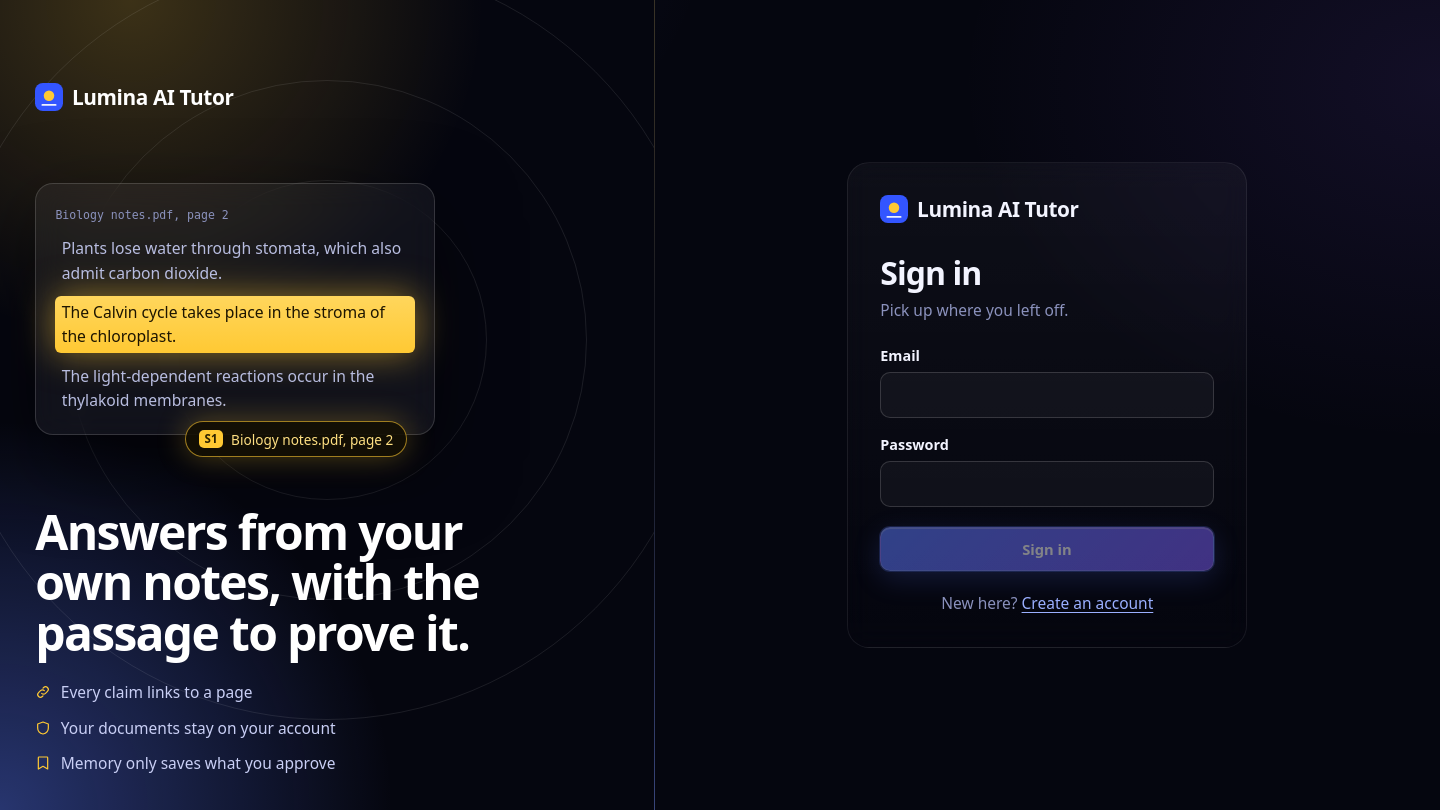
Scenario: login › shows a safe server error and keeps the user on the form
Type "a@b.co" into the field labelled "Email" at (1047, 395), box top-left (880, 372), bottom-right (1214, 418)
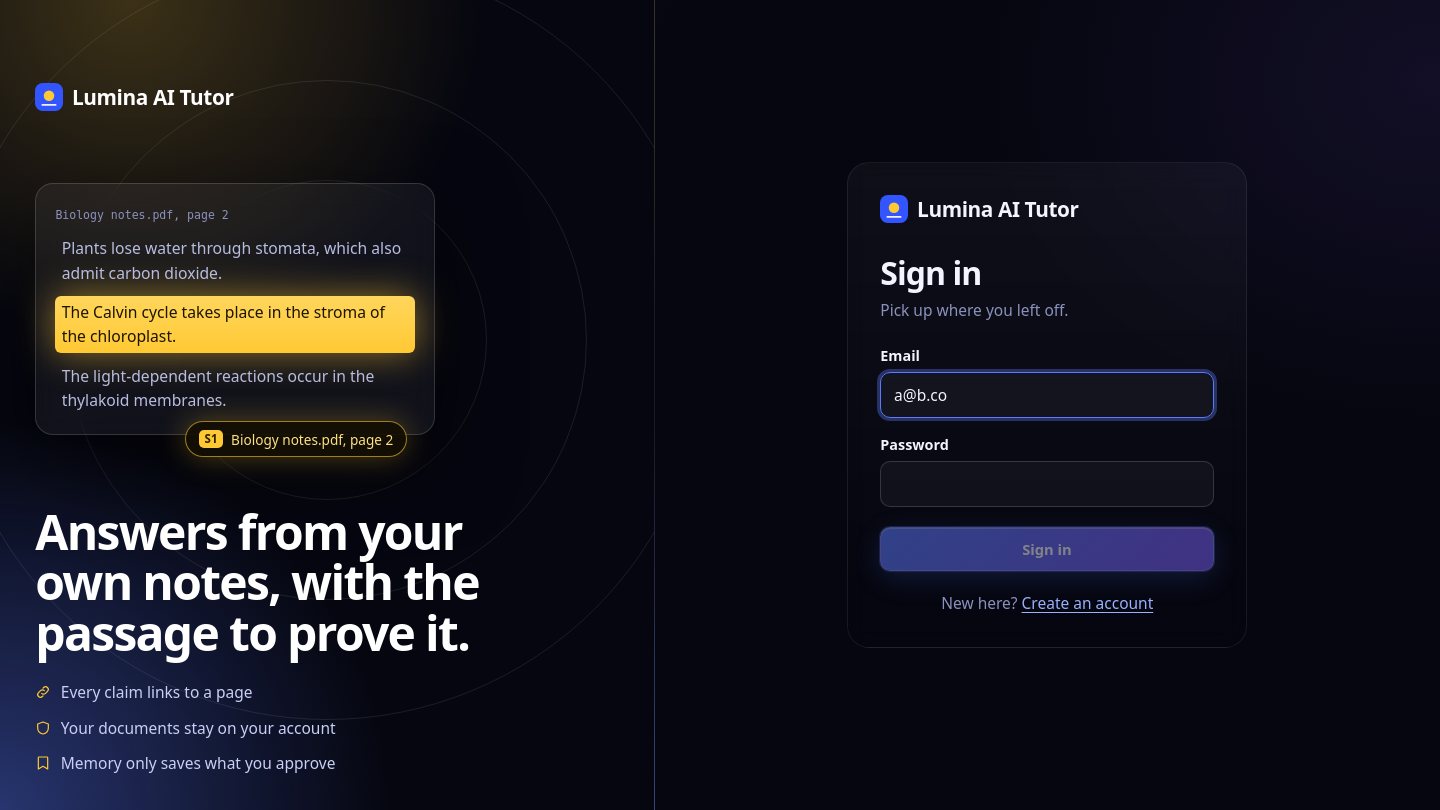
Type "wrong-pass1" into the password field labelled "Password" at (1047, 484), box top-left (880, 461), bottom-right (1214, 506)
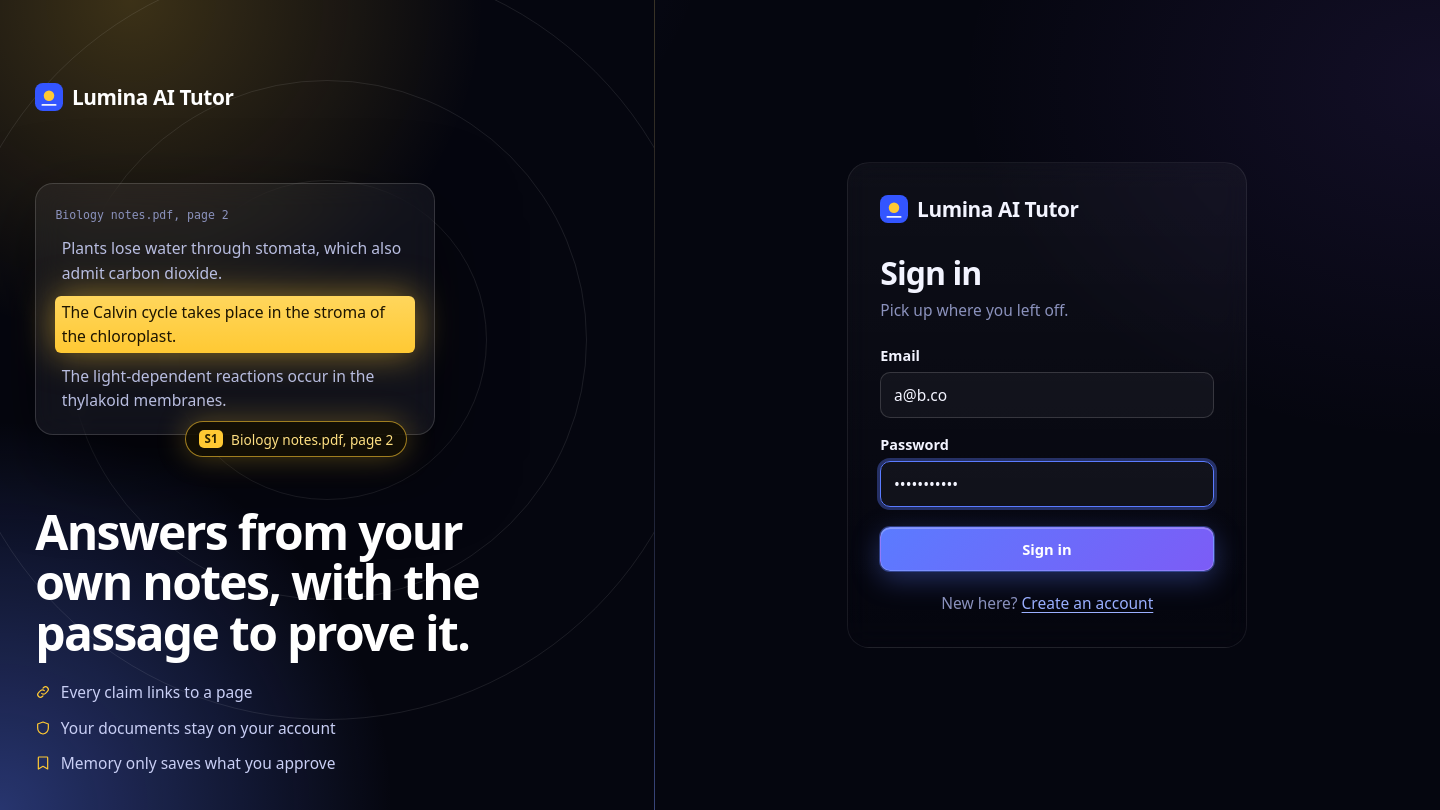
Click the button "Sign in" at (1047, 549), box top-left (880, 527), bottom-right (1214, 571)
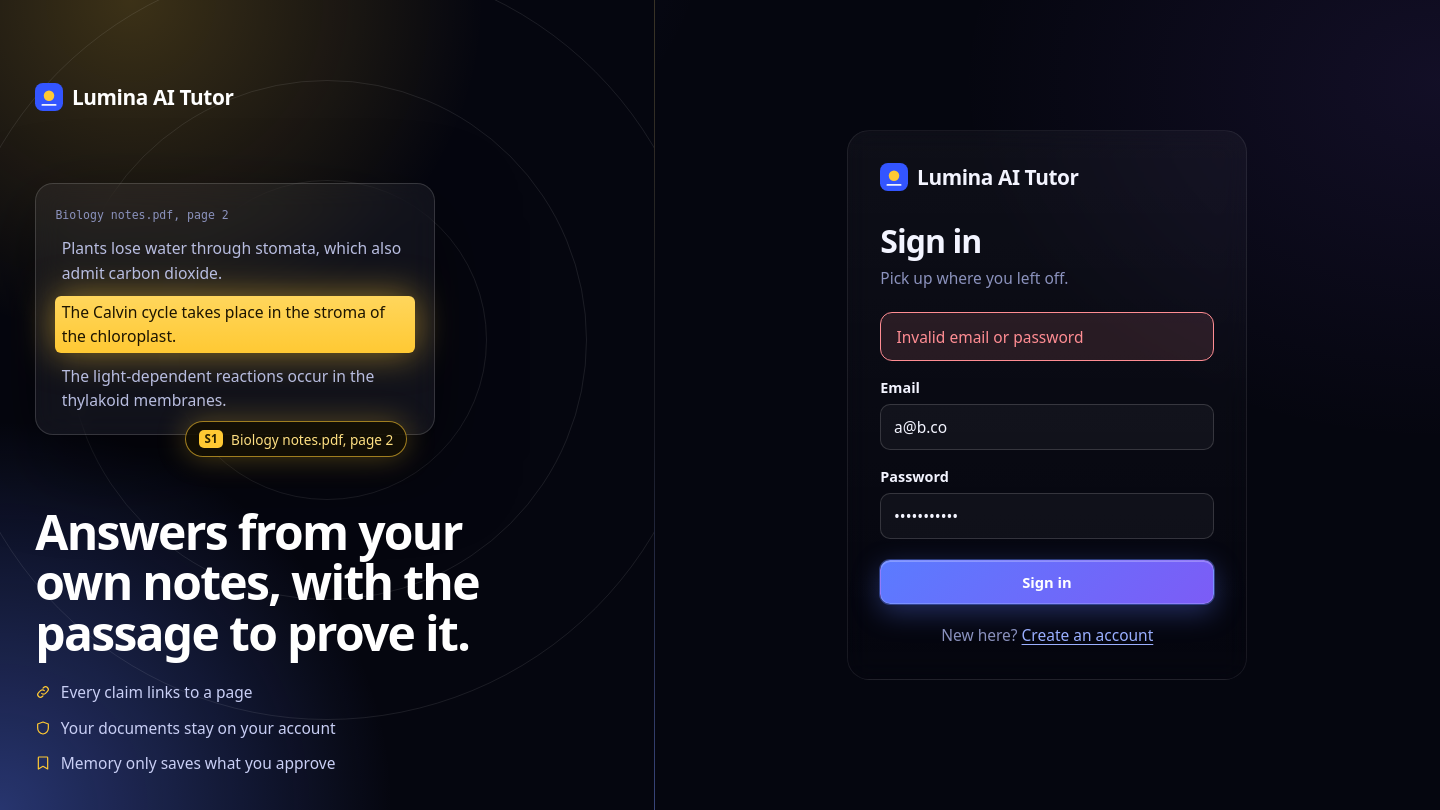
expect the message reads "Invalid email or password": met, box top-left (896, 326), bottom-right (1083, 348)
